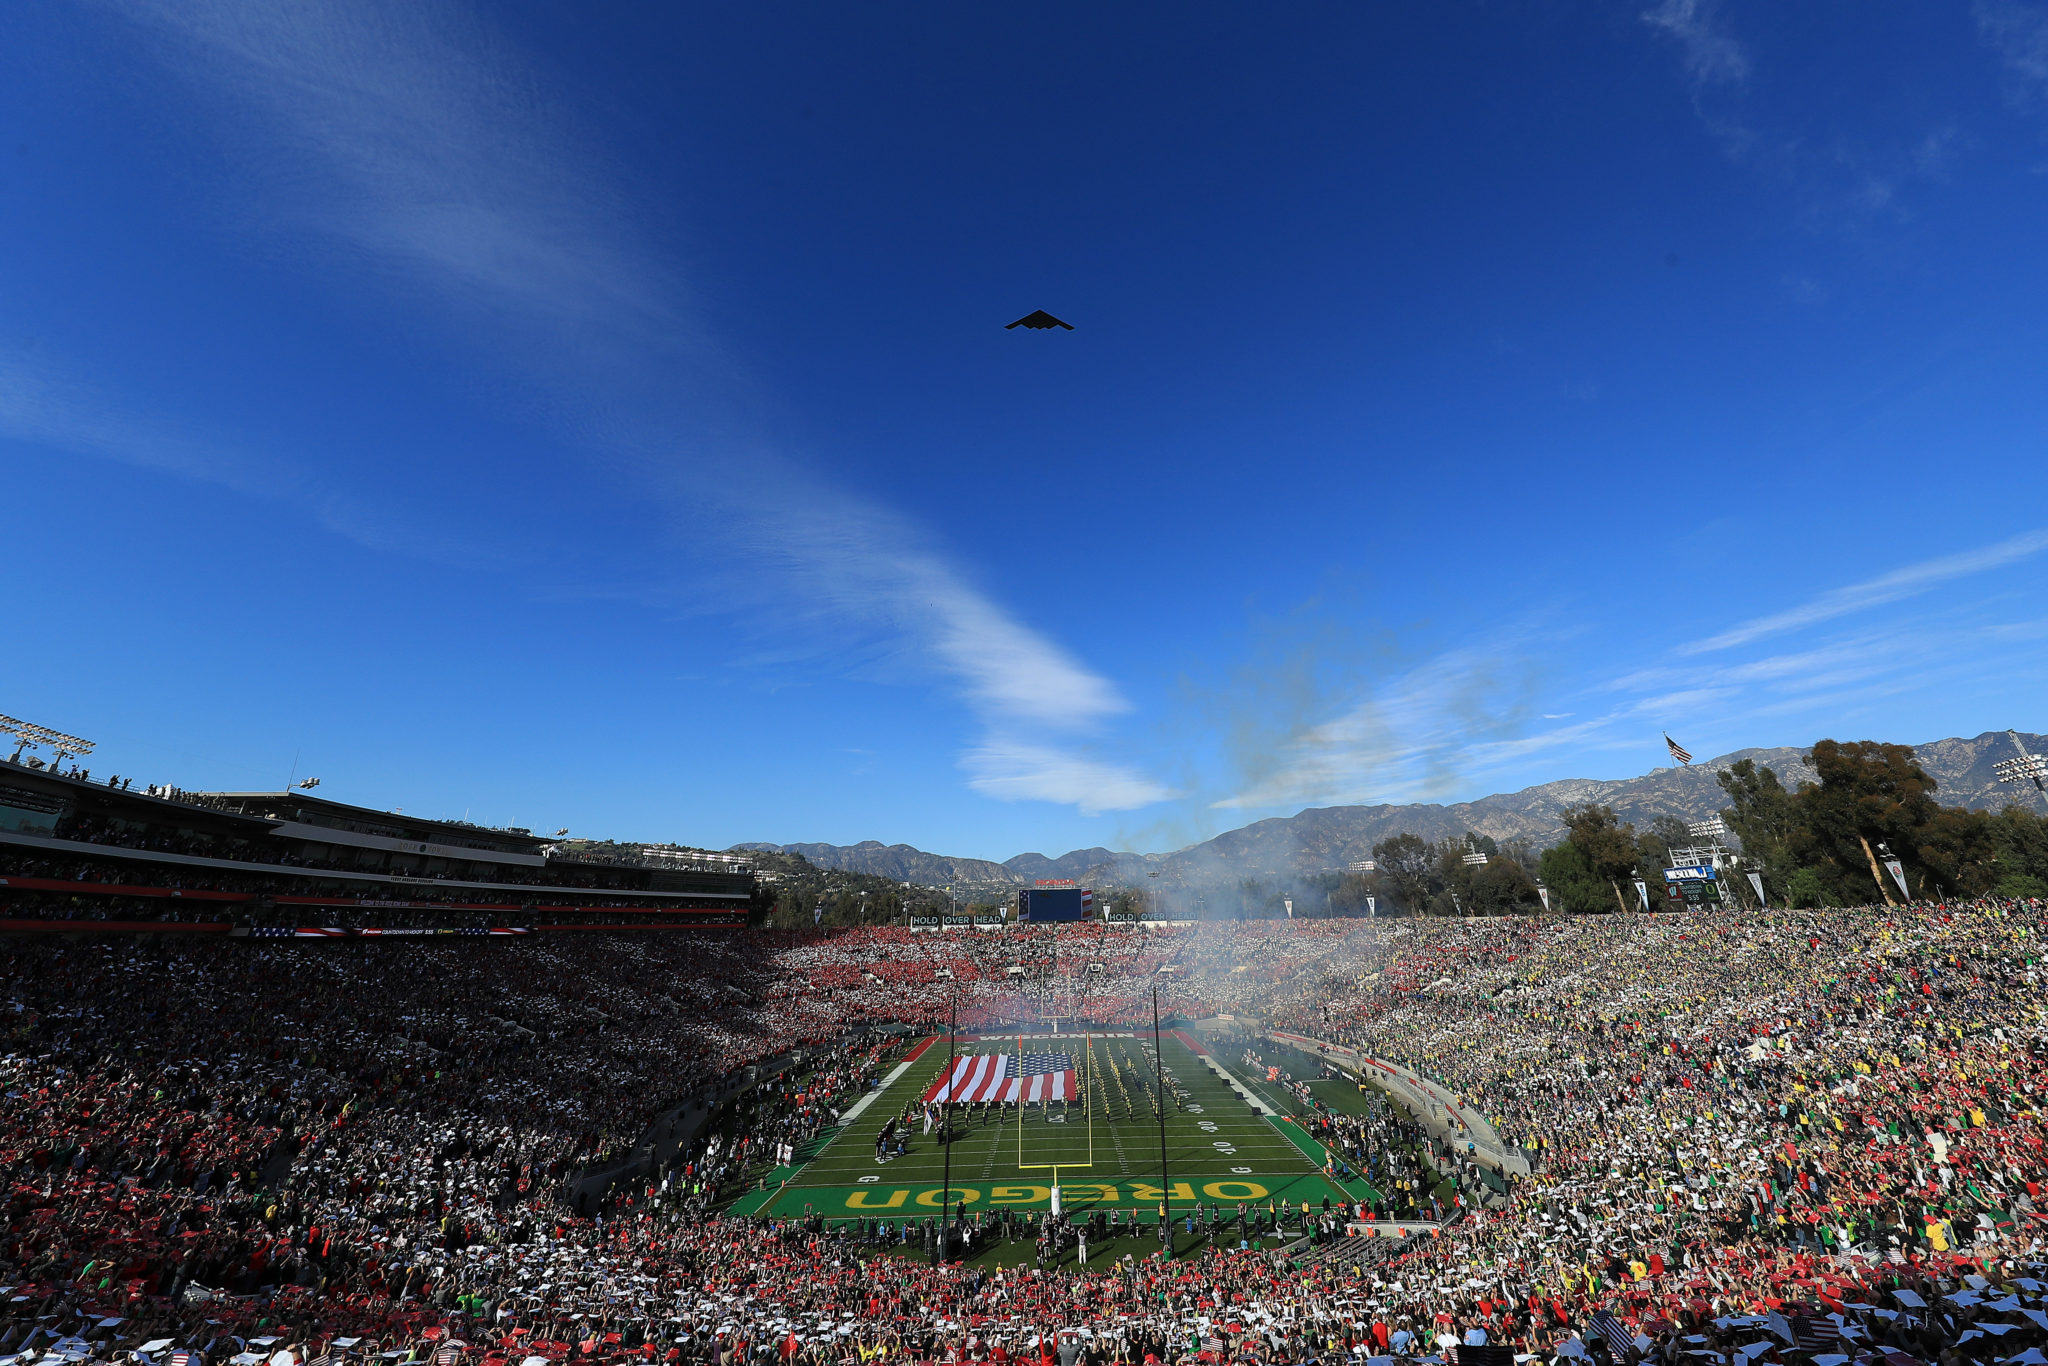B2: (1003, 309, 1076, 331)
